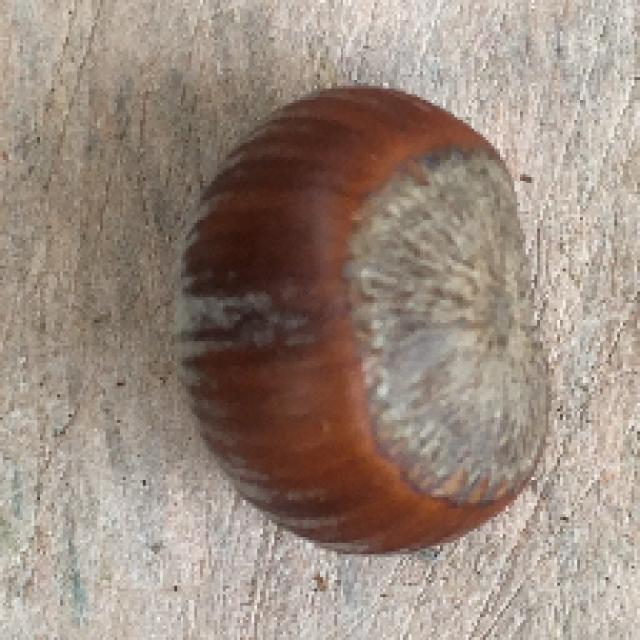damagedHazelnut: (172, 78, 556, 563)
